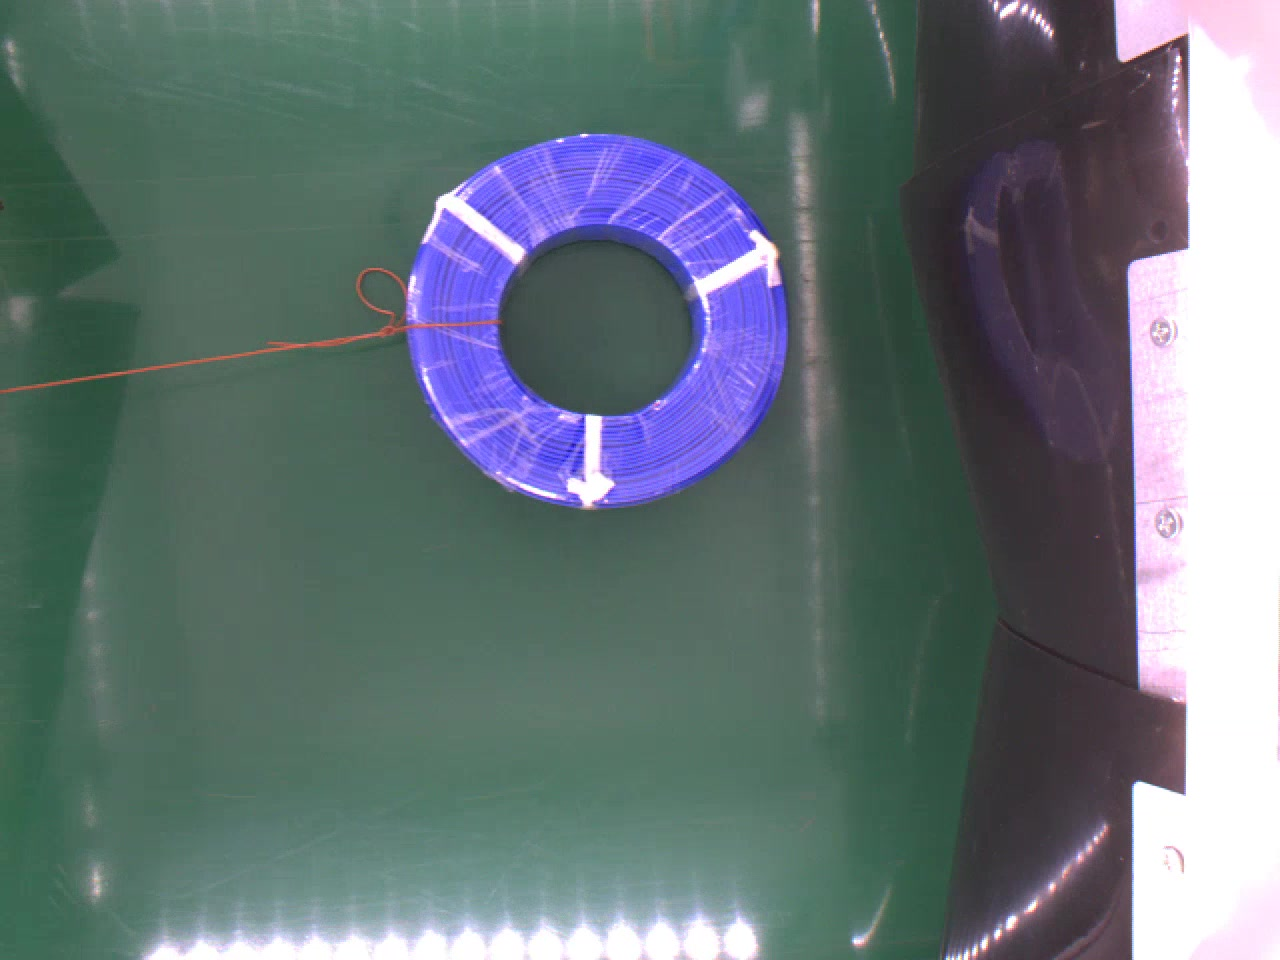blue: (403, 128, 795, 506)
